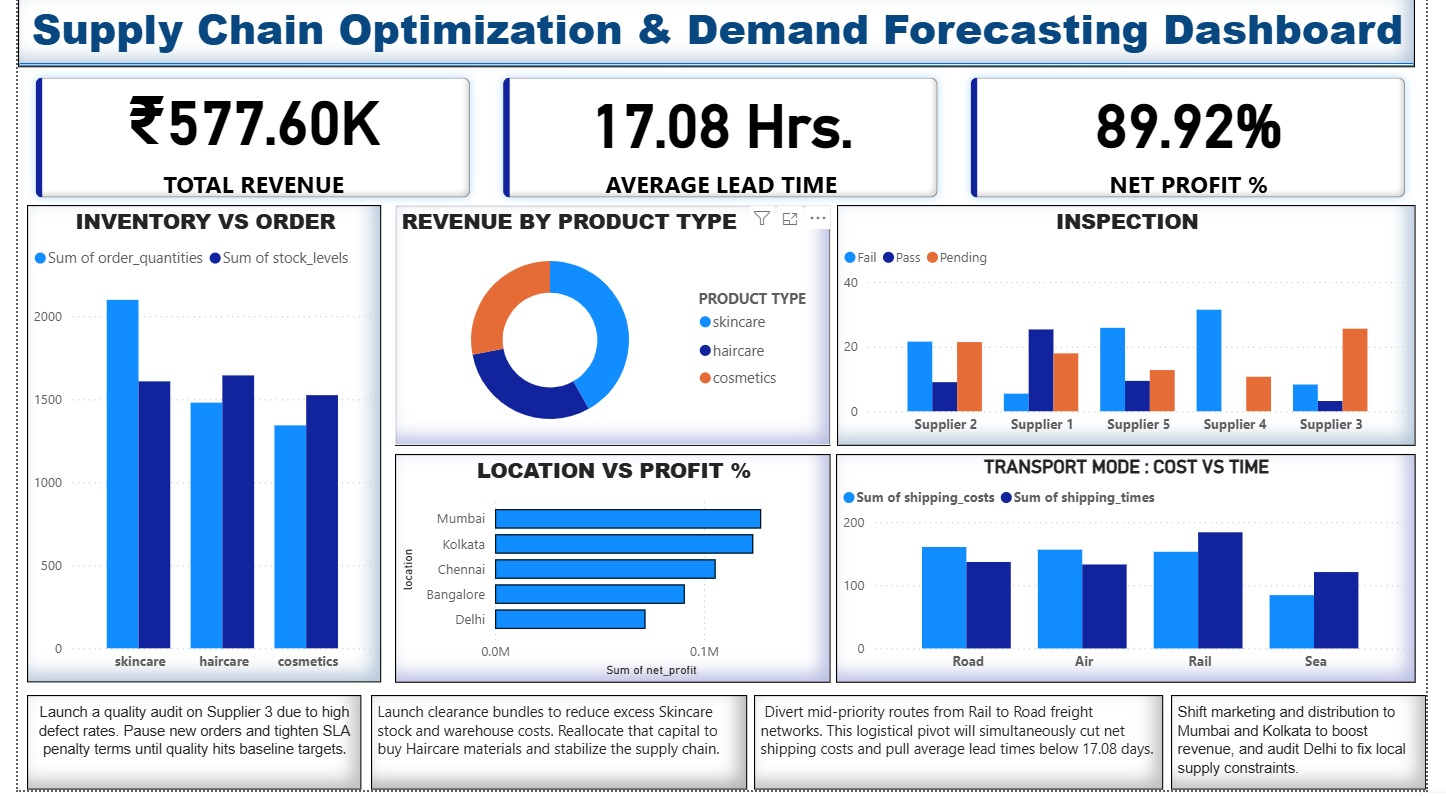

What the dashboard file says about the page in this screenshot:
{"tool":"powerbi","page":{"name":"Page 1","canvas":[1280,720],"ordinal":0},"visuals":[{"type":"cardVisual","fields":{"Data":["final_clean_supply_chain.total revenue","final_clean_supply_chain.AVERAGE LEAD TIME","final_clean_supply_chain.NET PROFIT %"]},"box":[0,56.4,1279.7,141.5],"z":0},{"type":"donutChart","title":"REVENUE BY PRODUCT TYPE","fields":{"Category":["final_clean_supply_chain.product_type"],"Y":["final_clean_supply_chain.revenue"]},"box":[343,188.1,395.8,218.5],"z":1000},{"type":"clusteredBarChart","title":"LOCATION VS PROFIT %","fields":{"Category":["final_clean_supply_chain.location"],"Y":["Sum(final_clean_supply_chain.net_profit)"]},"box":[343,414.6,395.8,207.8],"z":2000},{"type":"clusteredColumnChart","title":"TRANSPORT MODE : COST VS TIME","fields":{"Category":["final_clean_supply_chain.transportation_modes"],"Y":["Sum(final_clean_supply_chain.shipping_costs)","Sum(final_clean_supply_chain.shipping_times)"]},"box":[743.3,414.6,526.6,207.8],"z":3000},{"type":"shape","title":"Supply Chain Optimization & Demand Forecasting Dashboard","box":[0,0,1269.9,62.7],"z":5000},{"type":"textbox","box":[8.1,634,304.5,86],"z":6001},{"type":"clusteredColumnChart","title":"INSPECTION","fields":{"Category":["final_clean_supply_chain.supplier_name"],"Y":["Sum(final_clean_supply_chain.defect_rates)"],"Series":["final_clean_supply_chain.inspection_results"]},"box":[744.2,188.1,525.7,218.5],"z":6002},{"type":"clusteredColumnChart","title":"INVENTORY VS ORDER","fields":{"Category":["final_clean_supply_chain.product_type"],"Y":["Sum(final_clean_supply_chain.order_quantities)","Sum(final_clean_supply_chain.stock_levels)"]},"box":[8.1,188.1,322.4,434.3],"z":6003},{"type":"textbox","box":[320.6,634,342.1,86],"z":6004},{"type":"textbox","box":[669,634,371.6,86],"z":6005},{"type":"textbox","box":[1047.8,634,231.9,86],"z":6006}]}

Visuals, with their boxes in screenshot pixels (x1, y1, x2, y2), scaled from the page's 1280x720 canvas onto the 1446x796 screenshot:
cardVisual - final_clean_supply_chain.total revenue x final_clean_supply_chain.AVERAGE LEAD TIME: x1=0, y1=62, x2=1445, y2=219
"REVENUE BY PRODUCT TYPE" donutChart: x1=387, y1=208, x2=835, y2=450
"LOCATION VS PROFIT %" clusteredBarChart: x1=387, y1=458, x2=835, y2=688
"TRANSPORT MODE : COST VS TIME" clusteredColumnChart: x1=840, y1=458, x2=1435, y2=688
"Supply Chain Optimization & Demand Forecasting Dashboard" shape: x1=0, y1=0, x2=1435, y2=69
textbox: x1=9, y1=701, x2=353, y2=795
"INSPECTION" clusteredColumnChart: x1=841, y1=208, x2=1435, y2=450
"INVENTORY VS ORDER" clusteredColumnChart: x1=9, y1=208, x2=373, y2=688
textbox: x1=362, y1=701, x2=749, y2=795
textbox: x1=756, y1=701, x2=1176, y2=795
textbox: x1=1184, y1=701, x2=1445, y2=795
